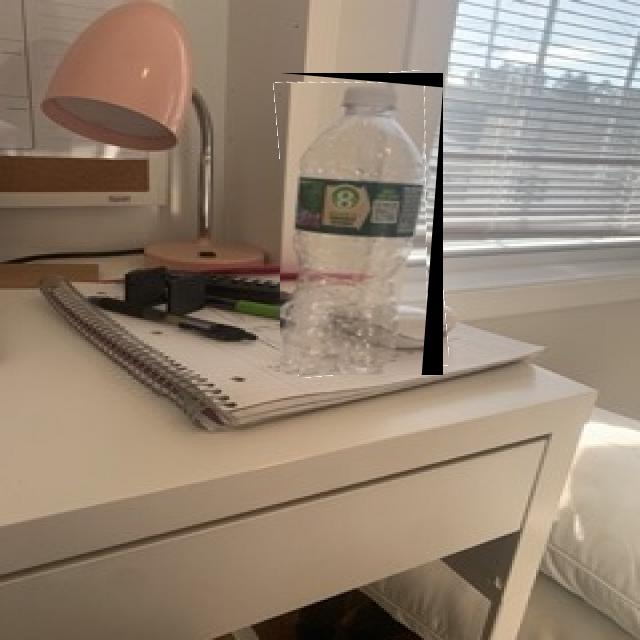water_bottle: (280, 73, 443, 375)
